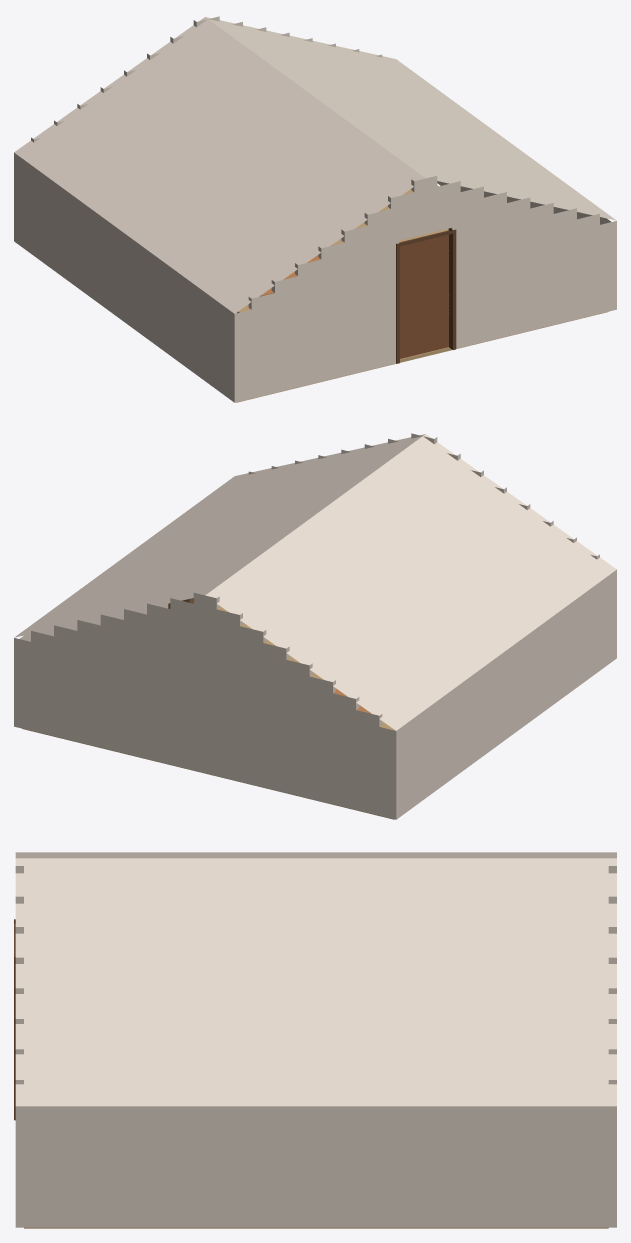
File: room_study.glb
3 views of the same model, one above another, from view 1: azimuth 30°, elevation 25°; view 2: azimuth 150°, elevation 25°; view 3: azimuth 270°, elevation 25° (orthographic). The views are drawn at different scales.
Visible parts, largest first — view 1: CEILING, WALLS, DOOR_bed_b, FRAMES, FLOOR_visible; view 2: CEILING, WALLS; view 3: CEILING, WALLS, FLOOR_visible.
Boxes of the visible parts, x1,y1,x2,y2 form: CEILING: (14,17,616,313); WALLS: (14,16,616,402); DOOR_bed_b: (400,234,448,358); FRAMES: (396,228,456,363); FLOOR_visible: (237,311,608,402); CEILING: (14,434,616,730); WALLS: (14,433,616,819); CEILING: (15,852,616,1106); WALLS: (15,866,616,1227); FLOOR_visible: (24,1227,608,1228).
Size of the model in its own units: 7.2 by 3.26 by 7.22.
